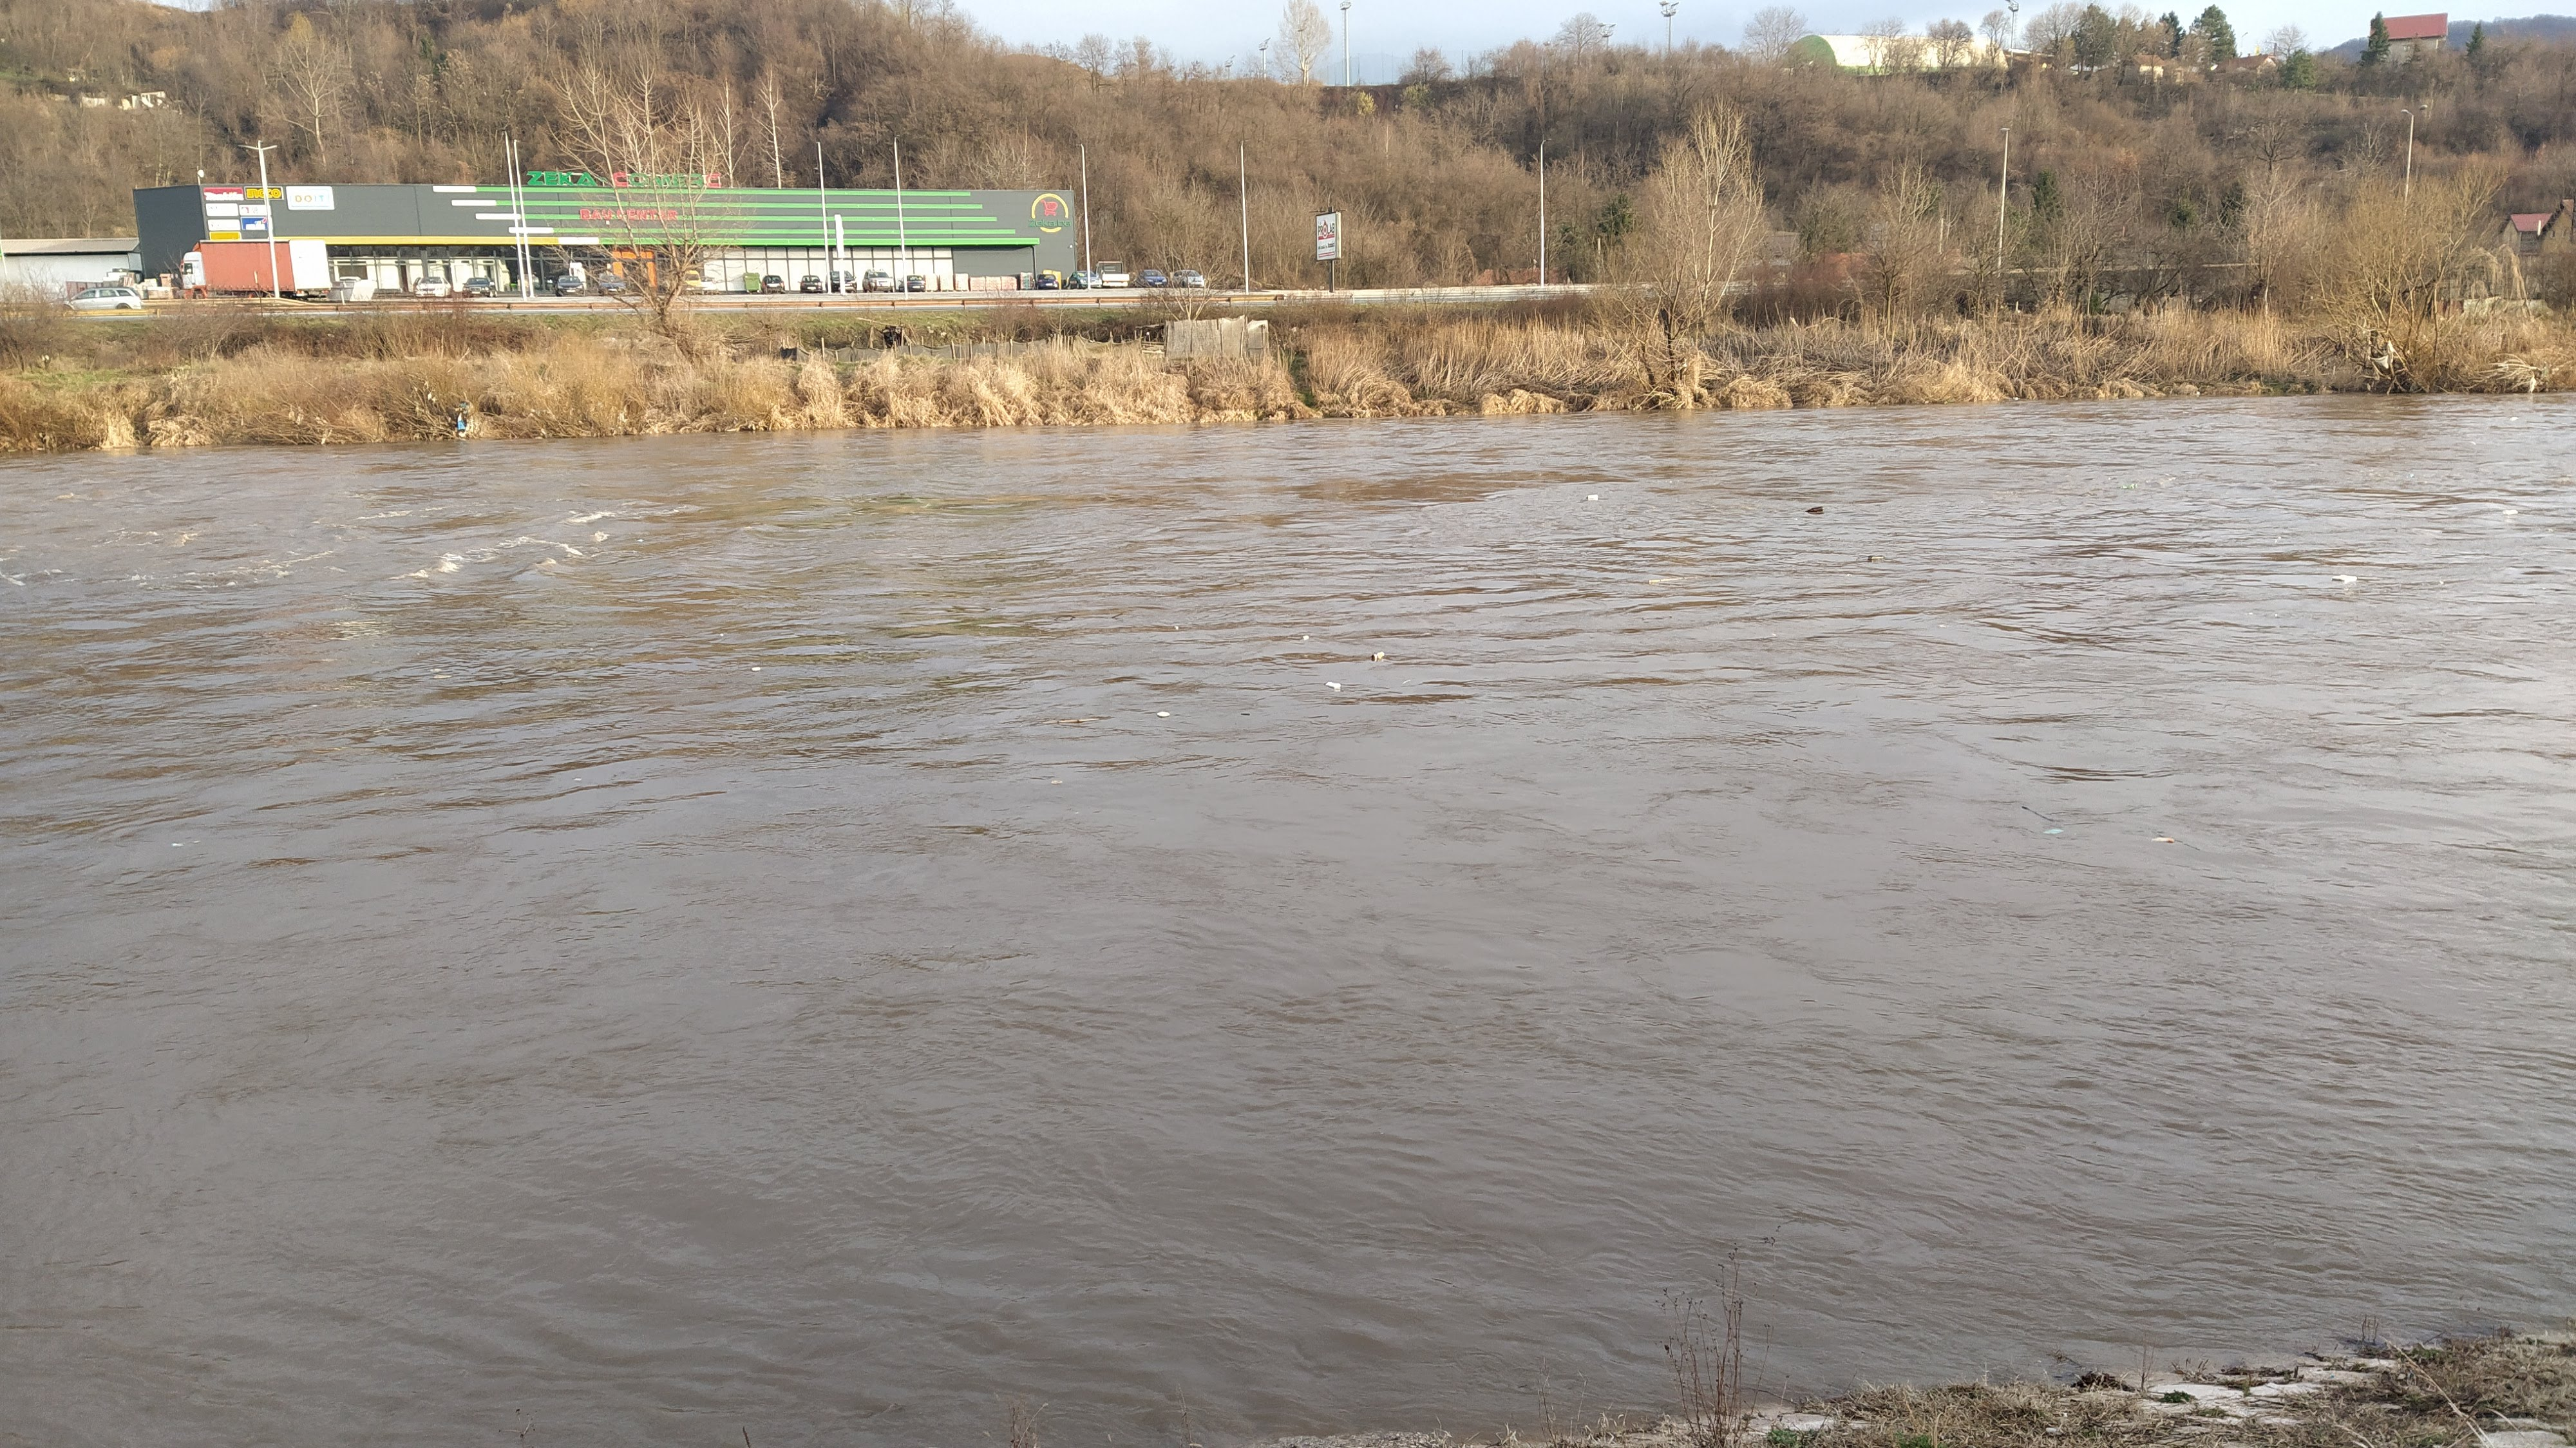Plastic Bottle: (1323, 682, 1339, 689), (2151, 837, 2173, 843), (1373, 651, 1385, 660), (2503, 508, 2518, 515), (1805, 506, 1822, 512), (1585, 494, 1598, 501), (1868, 556, 1884, 561), (1157, 712, 1169, 717), (1051, 781, 1062, 784), (752, 667, 763, 671)
